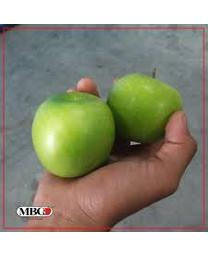apple: (31, 76, 116, 178), (106, 67, 182, 144)
